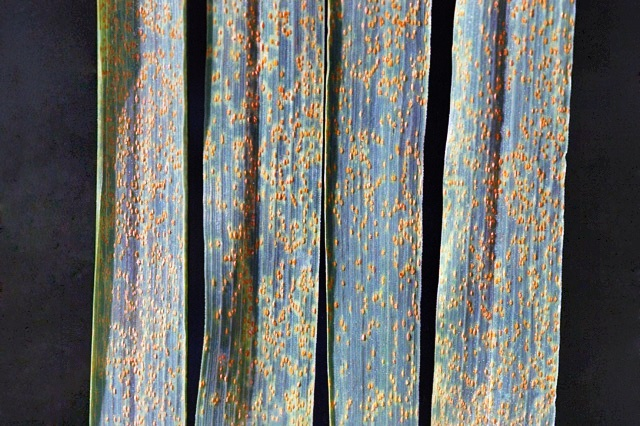Leaf Rust: (196, 9, 322, 419), (444, 4, 563, 426), (82, 6, 187, 421), (333, 3, 427, 421)
